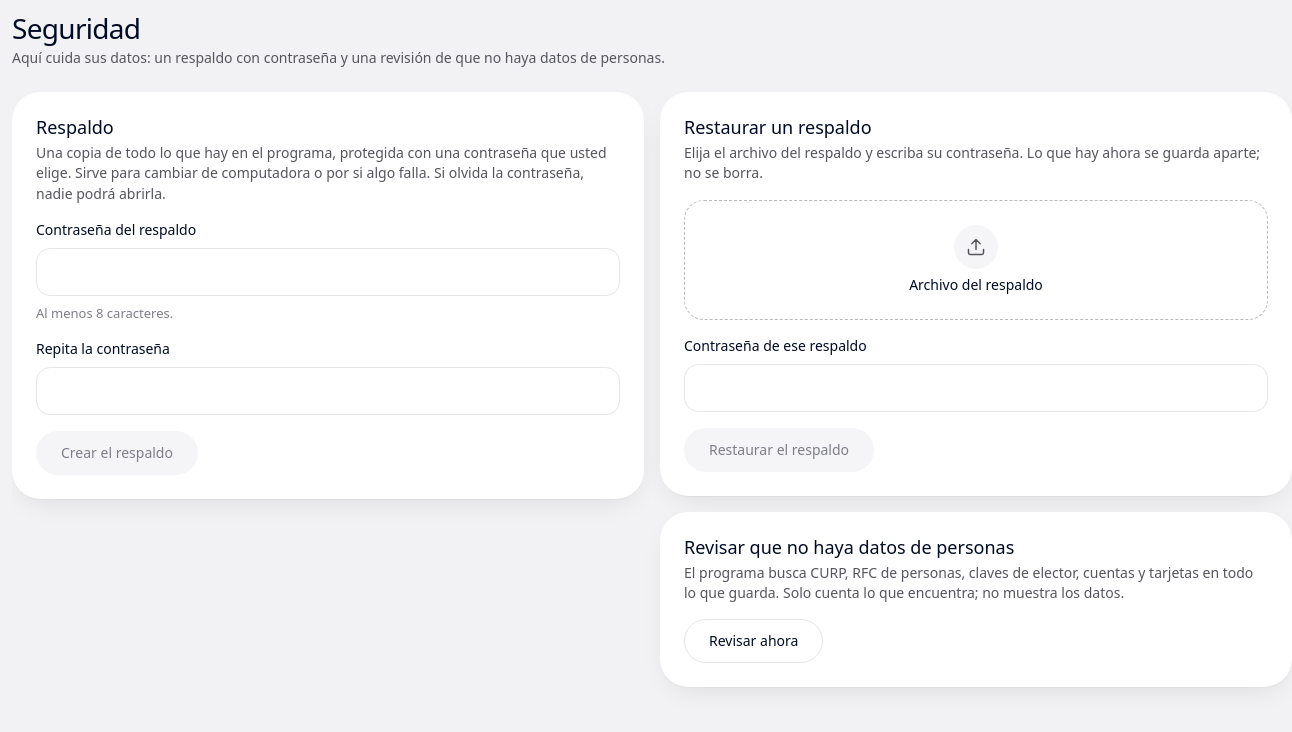
SecurityPage › makes a backup with a password written twice and says where it was left
Type "una contraseña larga" into the password field labelled "Contraseña del respaldo Al menos 8 caracteres." at (328, 272), box x1=36 y1=248 x2=620 y2=296
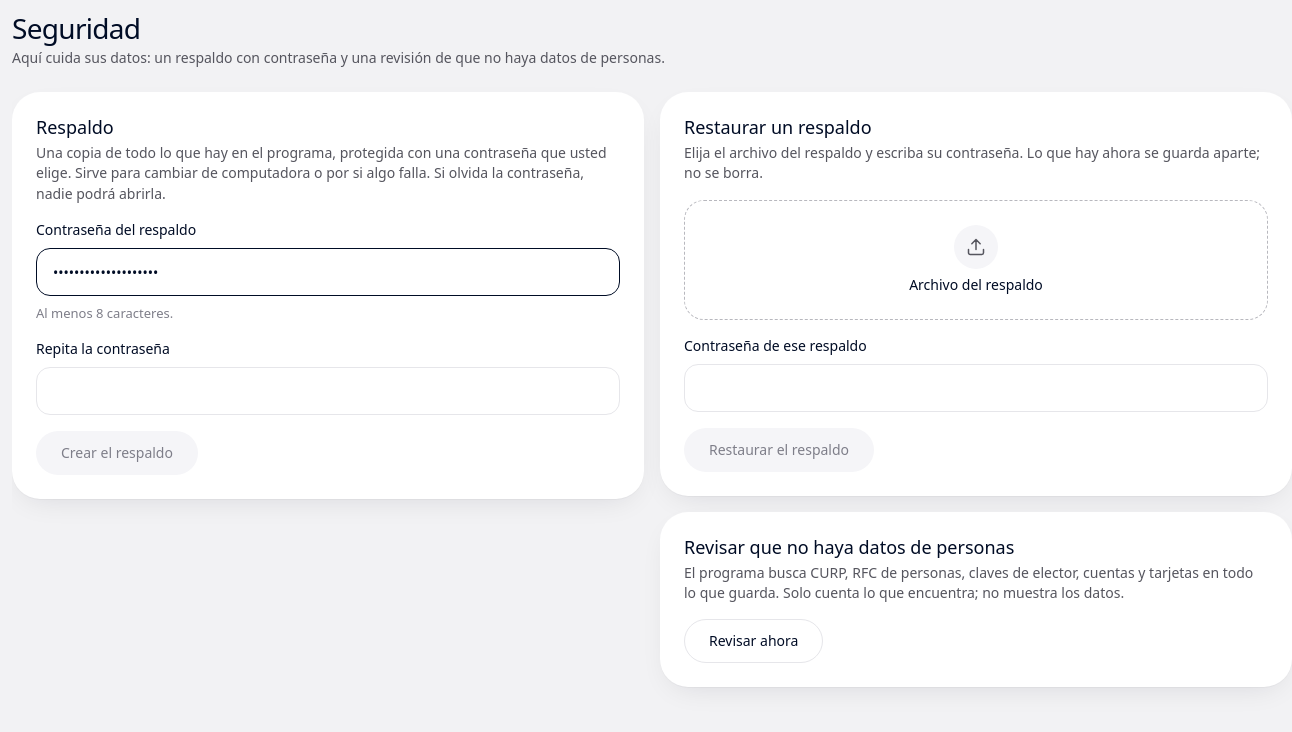
Type "otra distinta" into the password field labelled "Repita la contraseña" at (328, 391), box x1=36 y1=367 x2=620 y2=415
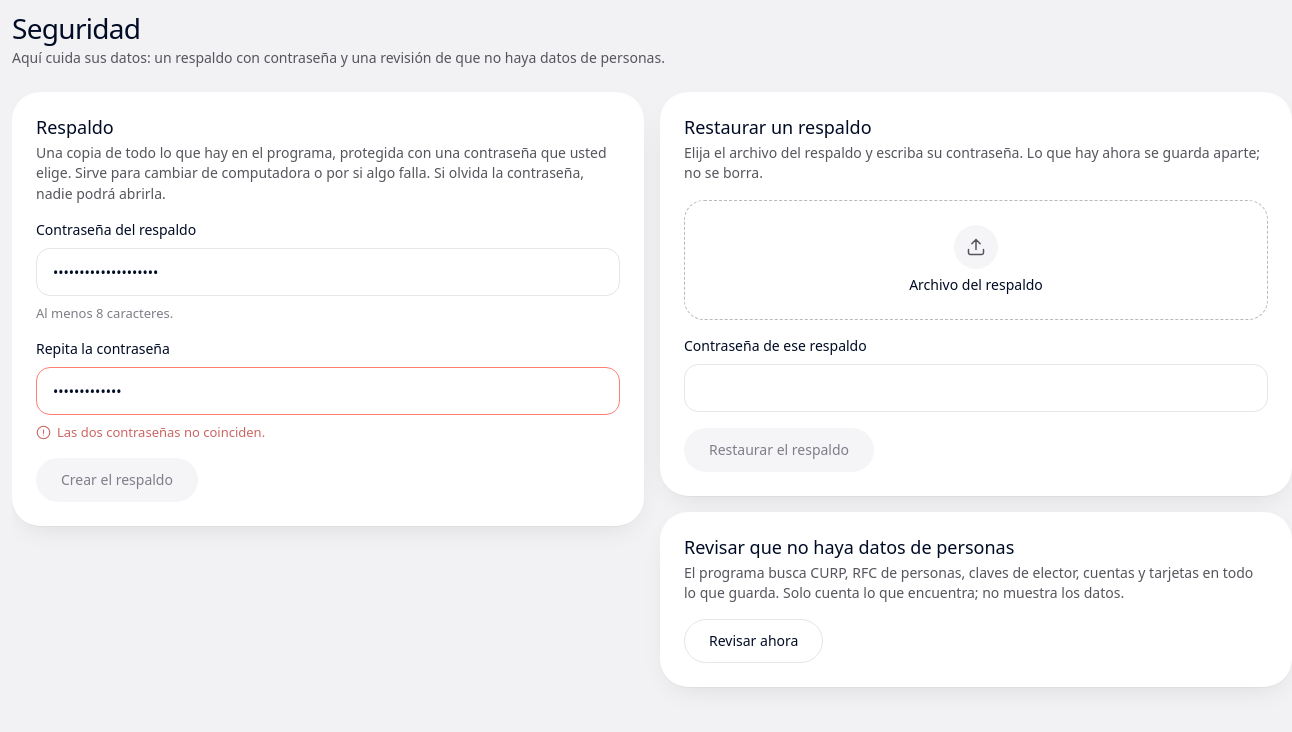
Expected: the button "Crear el respaldo" is disabled, x1=36 y1=458 x2=198 y2=502
Now the text "Las dos contraseñas no coinciden." is shown, box x1=36 y1=423 x2=265 y2=441
Type "una contraseña larga" into the password field labelled "Repita la contraseña Las dos contraseñas no coinciden." at (328, 391), box x1=36 y1=367 x2=620 y2=415
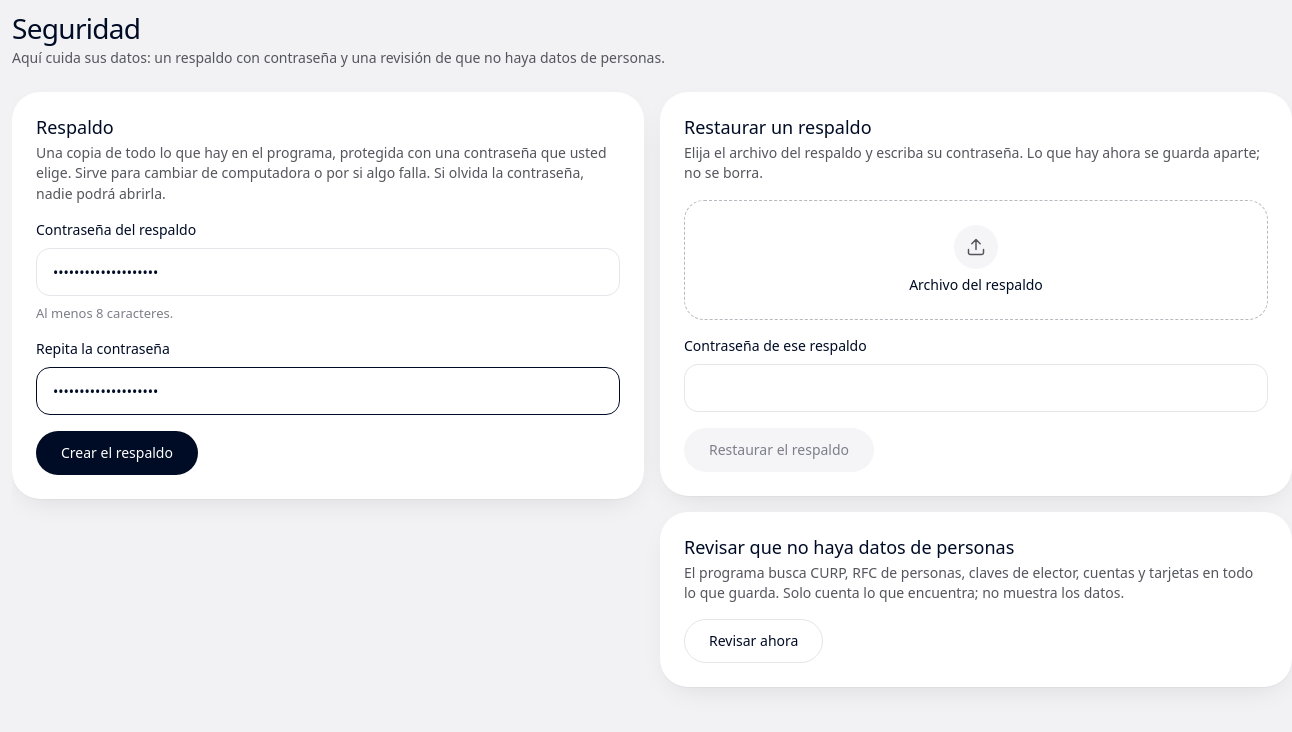
Click the button "Crear el respaldo" at (117, 453), box x1=36 y1=431 x2=198 y2=475
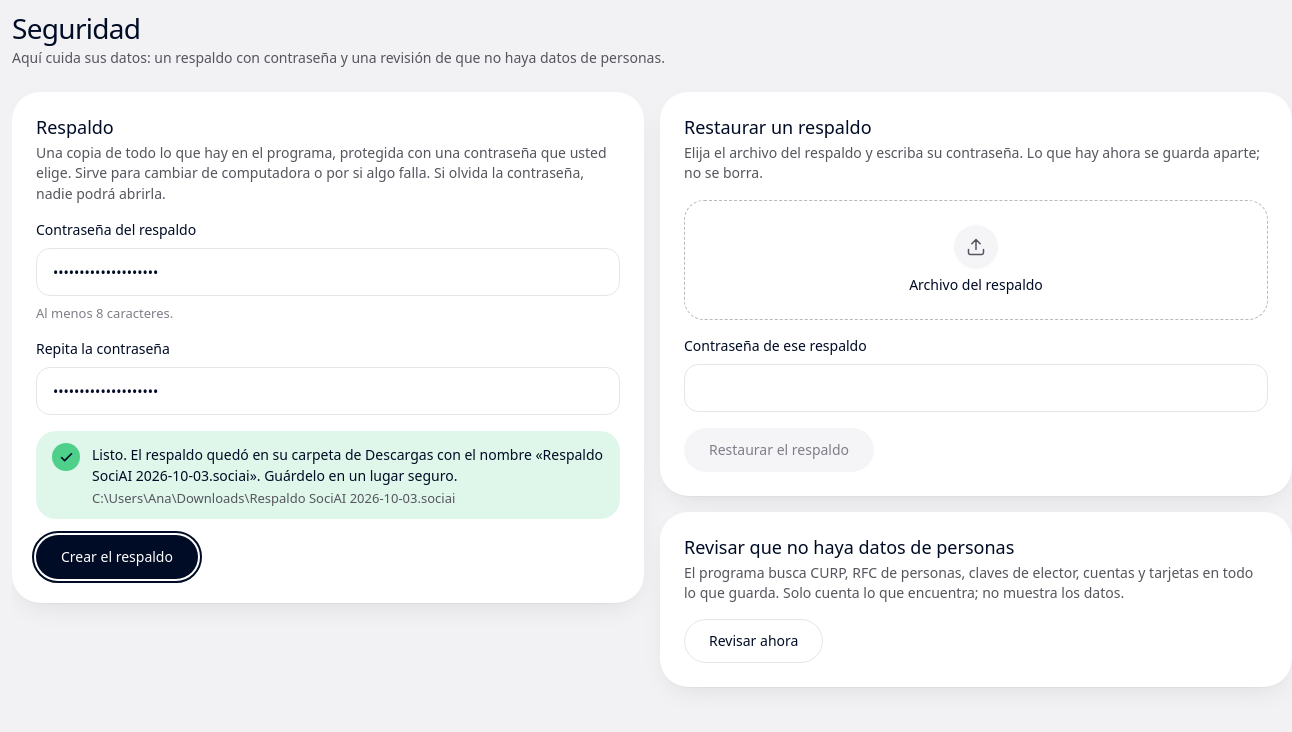
Now the text "quedó en su carpeta de Descargas con el nombre «Respaldo SociAI 2026-10-03.sociai»" is shown, box x1=92 y1=445 x2=603 y2=485
